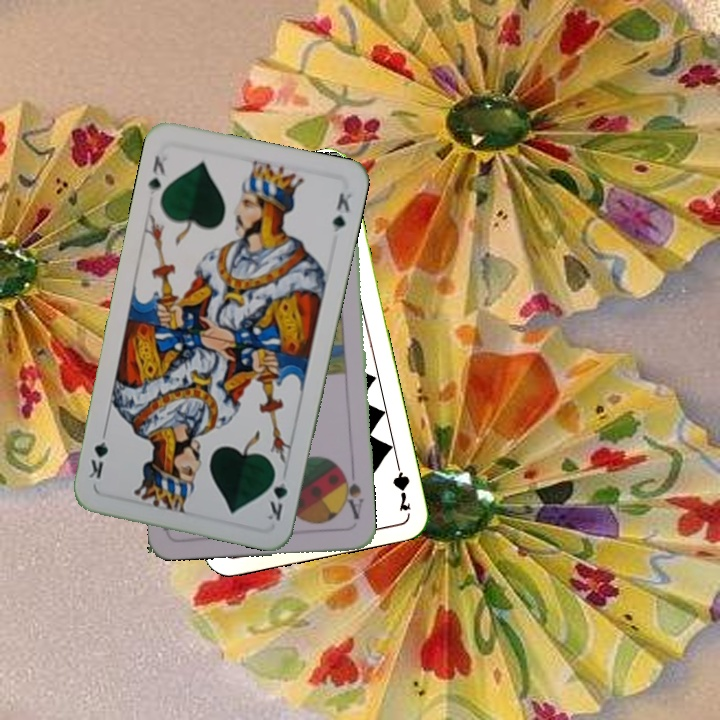G7: (388, 455, 413, 514)
GK: (262, 466, 291, 526), (144, 145, 171, 197)
SA: (338, 467, 366, 522)
